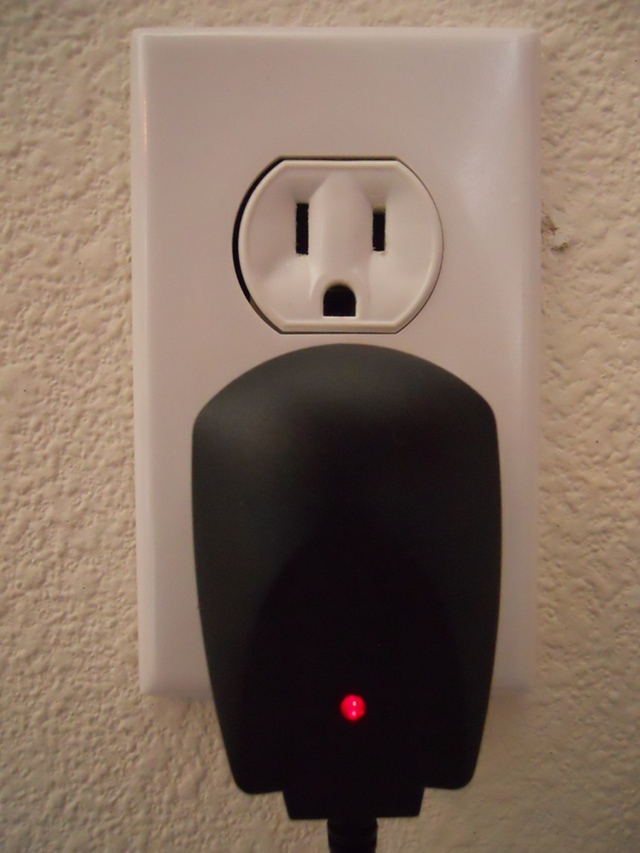outlet: (283, 193, 397, 322)
